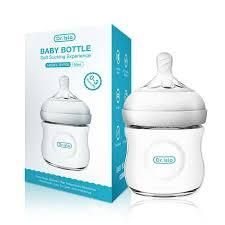BIODEGRADABLE: (120, 46, 214, 198)
